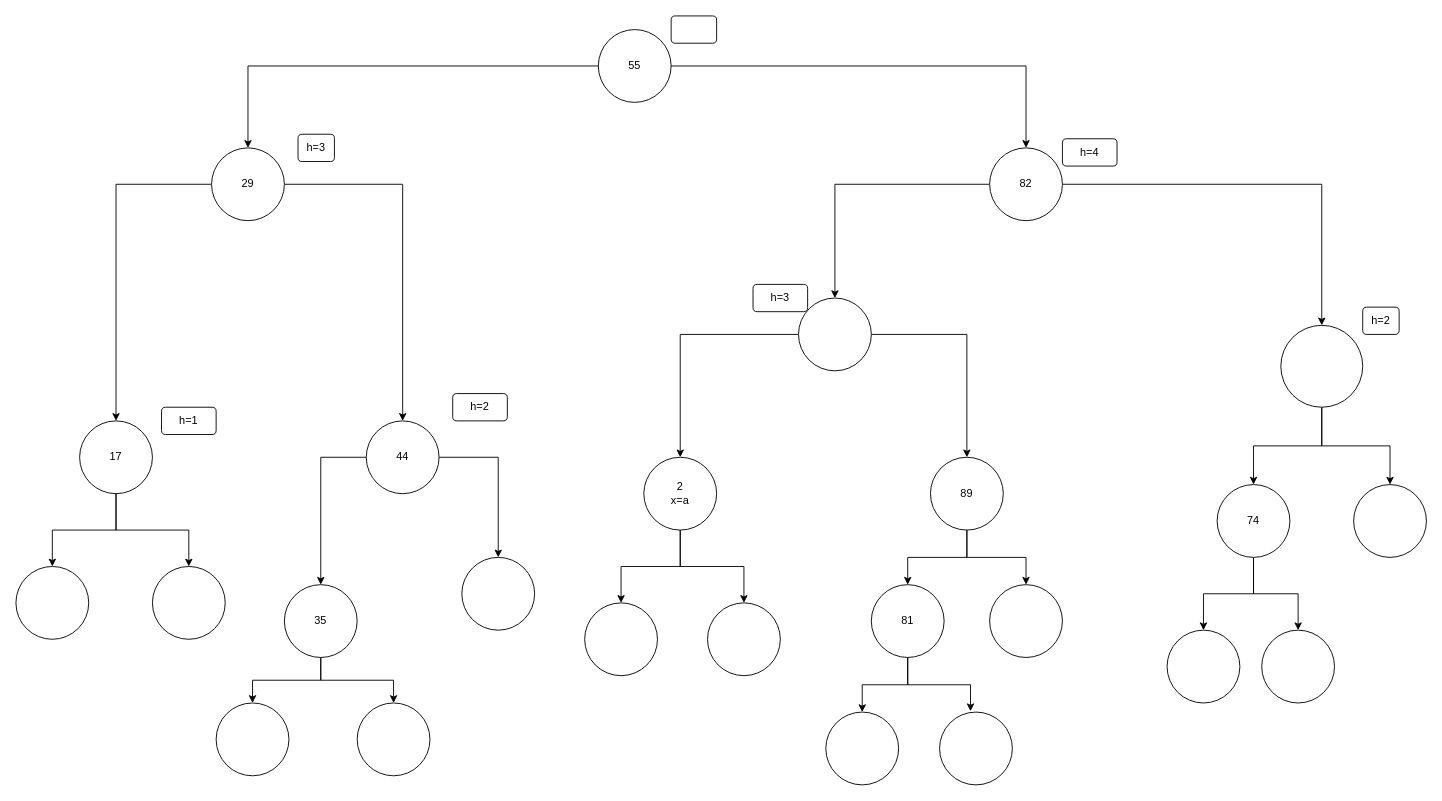
Some shapes in this 1442 by 801 pixel diagram are drawn without their labels. Each missing label, with the box of its shape:
75 y=b: (798, 297, 871, 371)
84 z=c: (1280, 324, 1363, 407)
h=5: (670, 15, 717, 43)
